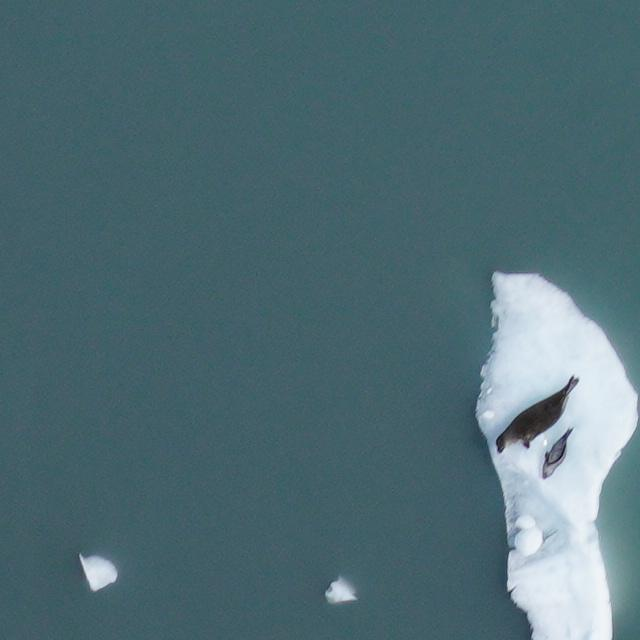seal: (484, 365, 592, 468), (533, 428, 582, 479)
